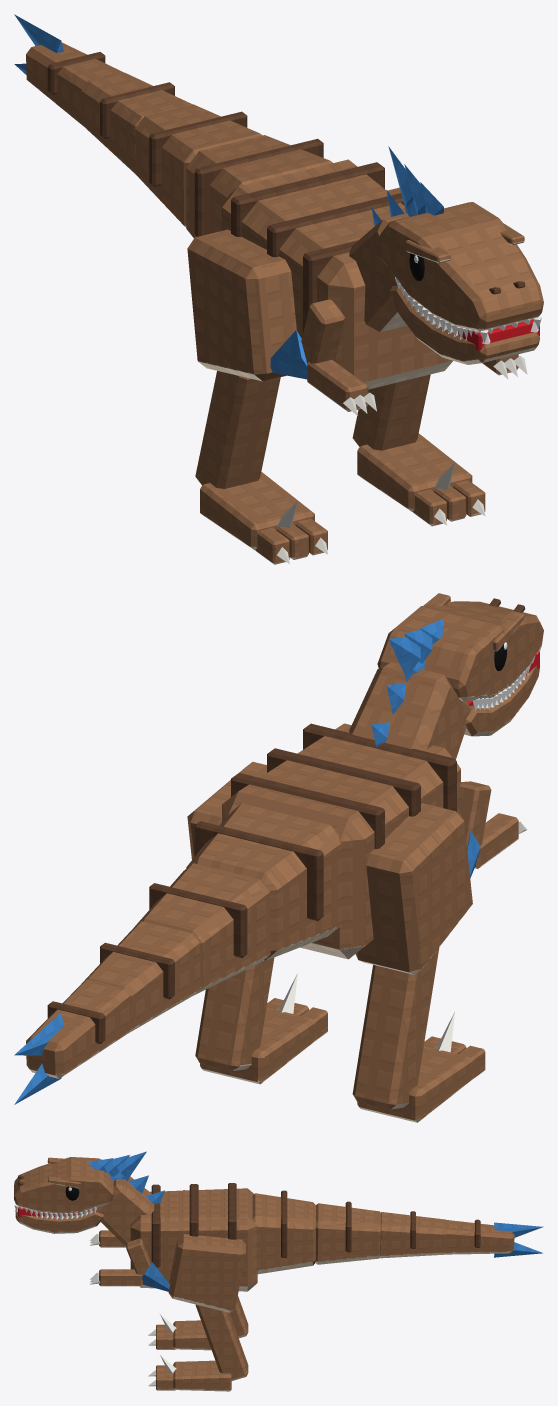
Rendered from 08_Velociraptor.glb.
3 views of the same model, one above another, from view 1: azimuth 30°, elevation 25°; view 2: azimuth 150°, elevation 25°; view 3: azimuth 270°, elevation 25° (orthographic). The views are drawn at different scales.
Parts seen in each view (by area): view 1: 08_Velociraptor; view 2: 08_Velociraptor; view 3: 08_Velociraptor.
Boxes of the visible parts, box(x1,y1,x2,y2) form: 08_Velociraptor: box(14, 14, 543, 564); 08_Velociraptor: box(14, 593, 543, 1122); 08_Velociraptor: box(14, 1151, 543, 1391).
Size of the model in its own units: 1.97 by 3.36 by 7.59.
Materials: 1 (1 with a texture image).
